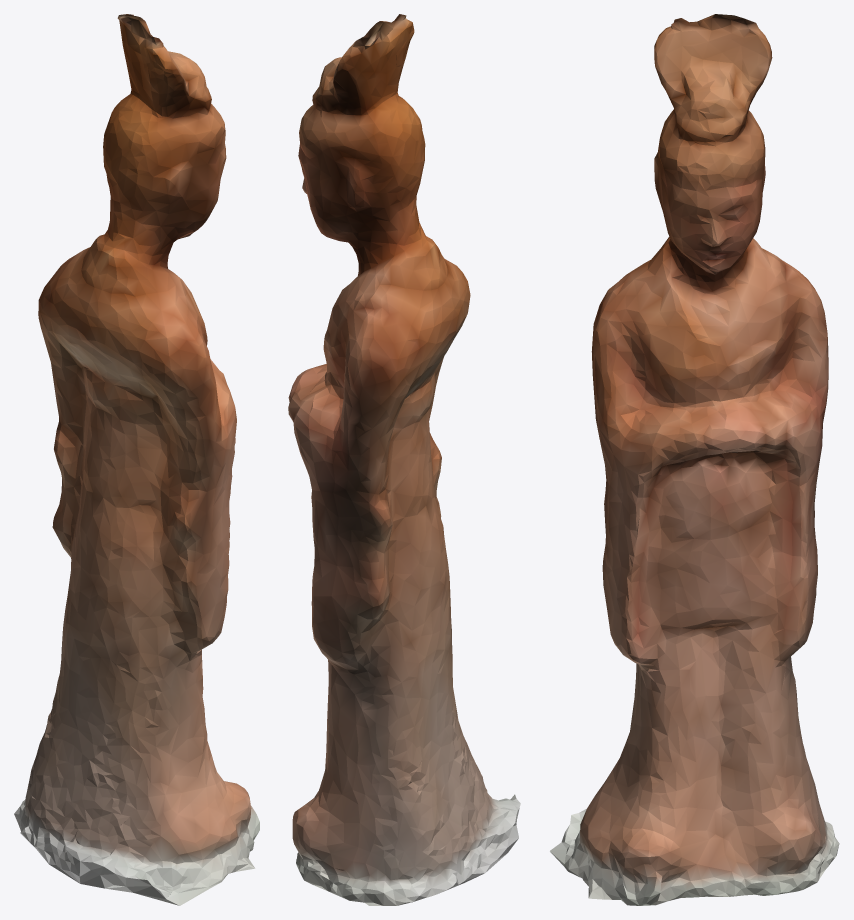
Rendered from tang_official.glb.
3 views of the same model, side by side, from view 1: azimuth 30°, elevation 25°; view 2: azimuth 150°, elevation 25°; view 3: azimuth 270°, elevation 25° (orthographic). The views are drawn at different scales.
Visible parts, largest first — view 1: Mesh_0_Part_0.001; view 2: Mesh_0_Part_0.001; view 3: Mesh_0_Part_0.001.
Part boxes in pixels (left/top/right/bottom): Mesh_0_Part_0.001: left=14, top=14, right=259, bottom=905; Mesh_0_Part_0.001: left=288, top=14, right=520, bottom=905; Mesh_0_Part_0.001: left=550, top=14, right=839, bottom=905.
Size of the model in its own units: 11.34 by 47.73 by 14.64.
